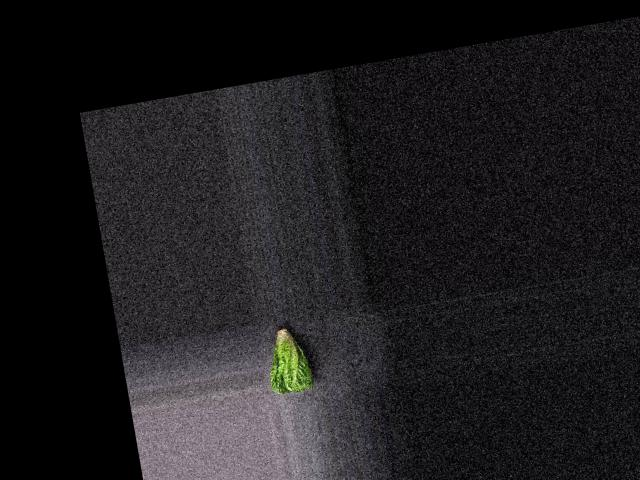lettuce: (259, 320, 316, 396)
